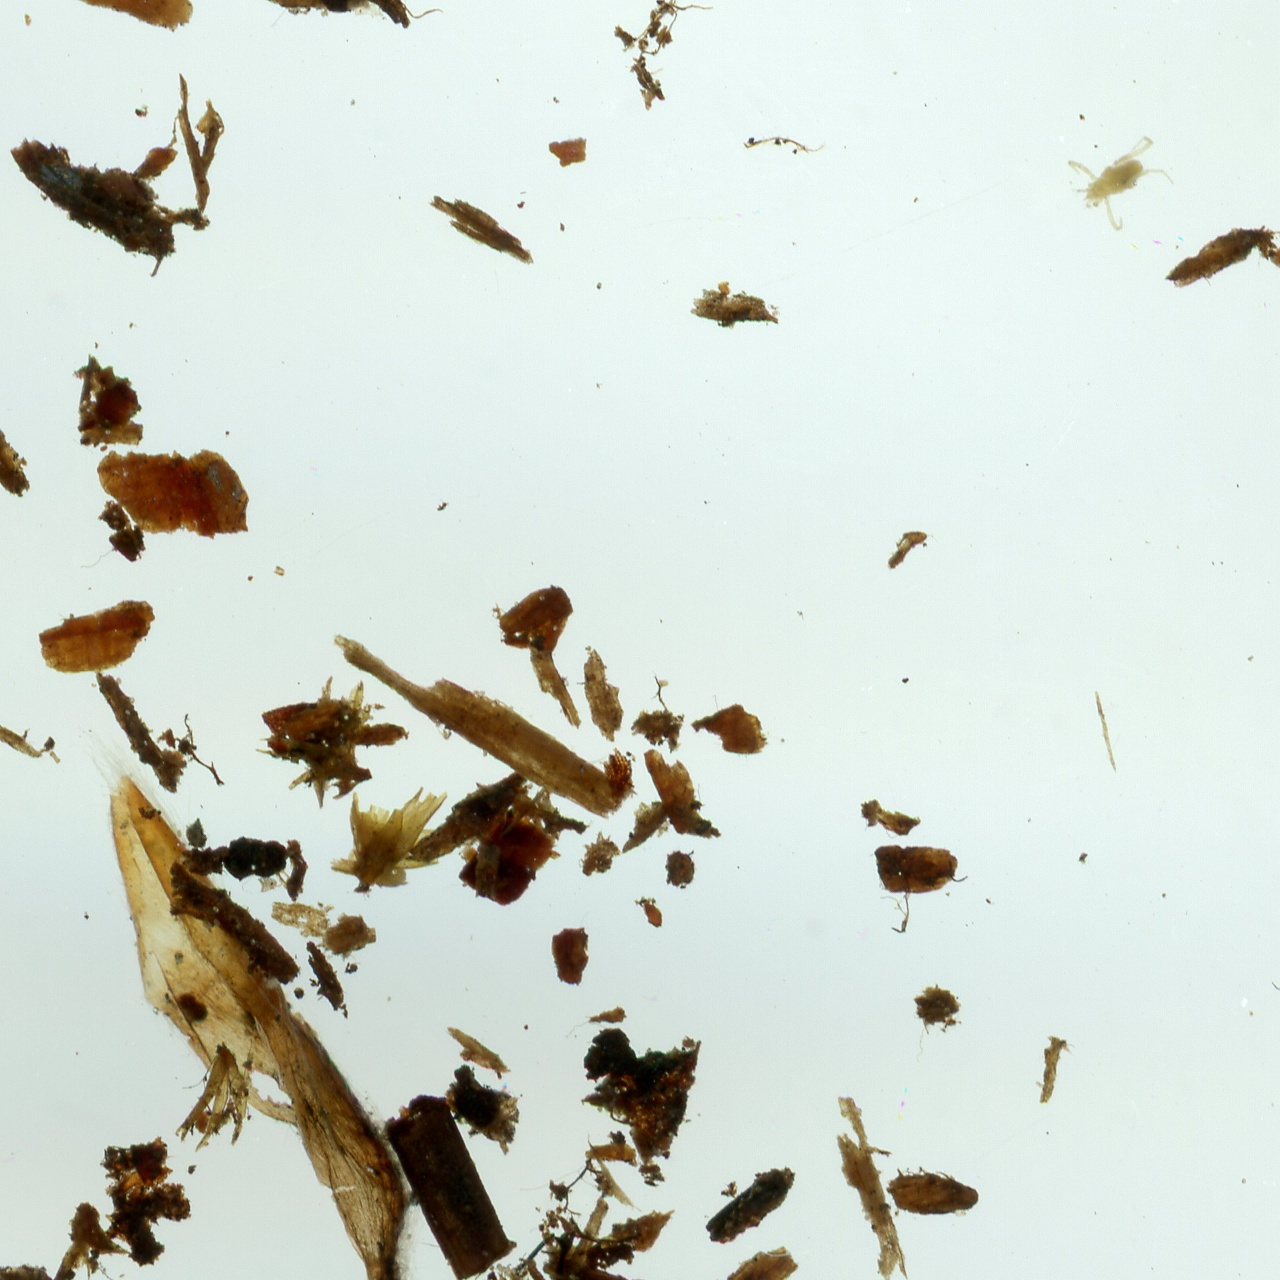arthropod: (1057, 112, 1189, 243)
